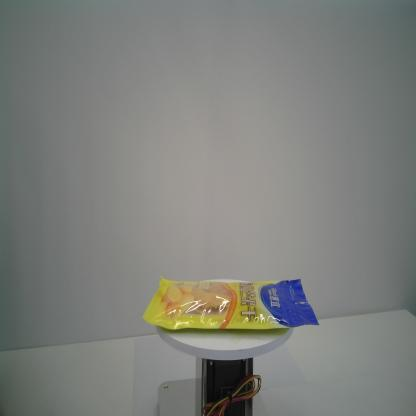Dried Fruit: (142, 275, 320, 331)
